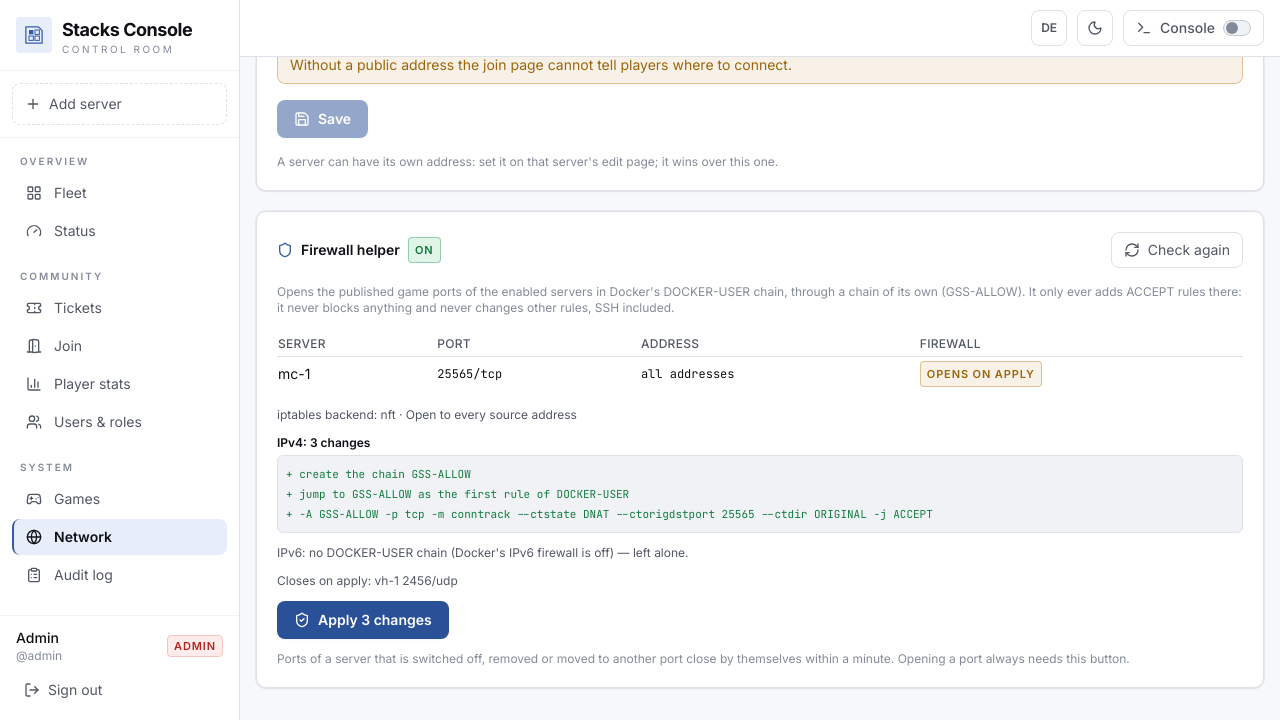
Test: the firewall panel › shows the rule diff first and applies exactly the previewed plan
(page scrolled)
expect the element with test id "firewall-diff-ipv4" shows "+ create the chain GSS-ALLOW": met, box [286, 467, 471, 481]
expect the text "IPv6: no DOCKER-USER chain (Docker's IPv6 firewall is off) — left alone." is shown: met, box [277, 545, 688, 560]
Click the button "Apply 3 changes": (363, 620) [277, 601, 449, 639]
(page scrolled)
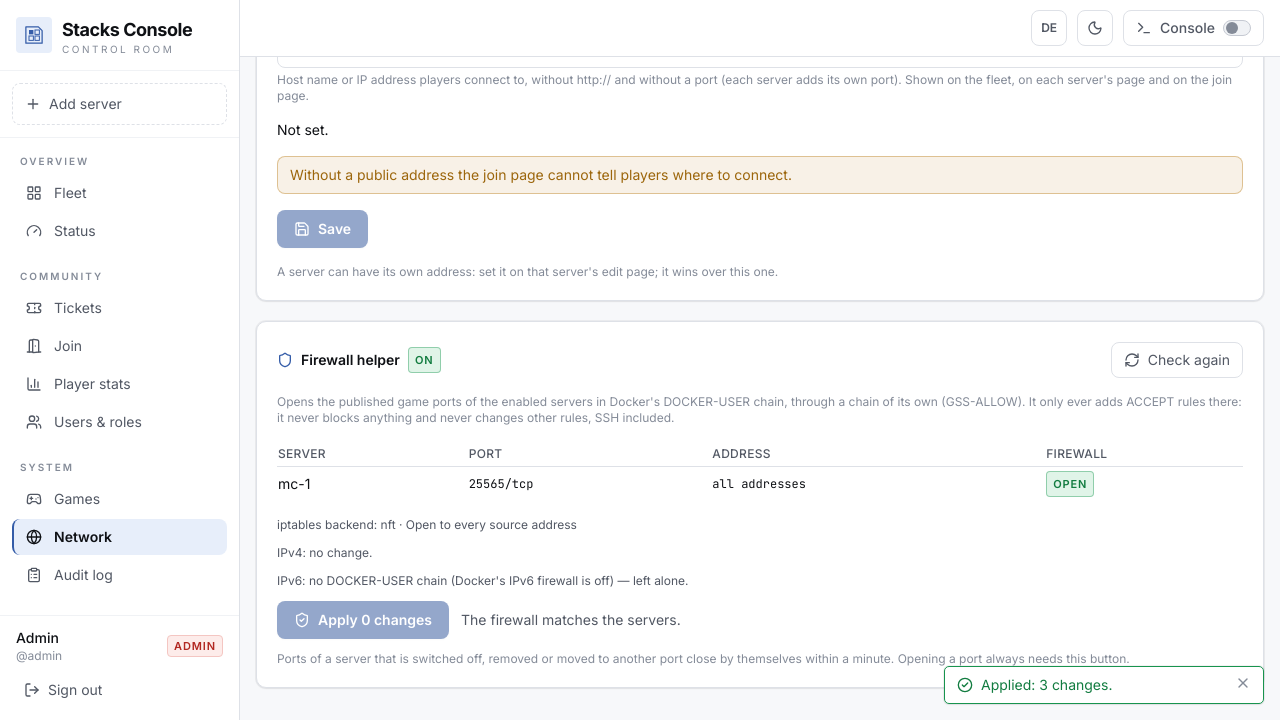
expect the text "open" is shown: met, box [1046, 471, 1094, 497]
expect the text "The firewall matches the servers." is shown: met, box [461, 610, 681, 630]
expect the button "Apply 0 changes" is disabled: met, box [277, 601, 449, 639]
